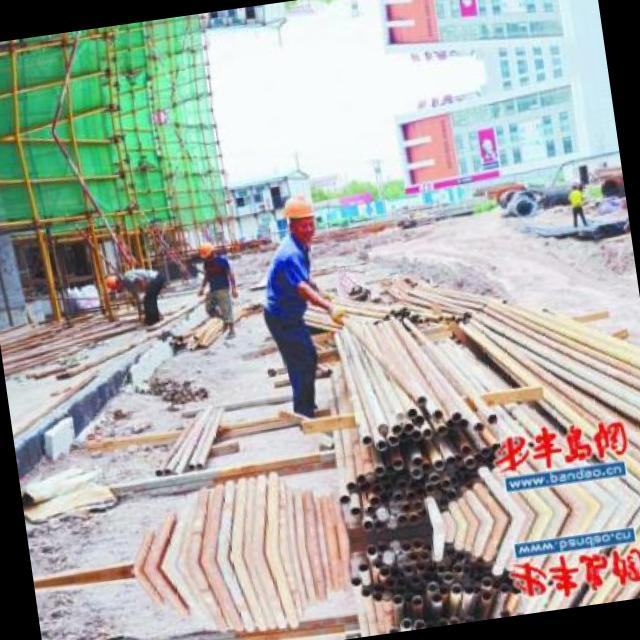helmet: (276, 184, 320, 247), (98, 268, 124, 293), (194, 237, 218, 260)
